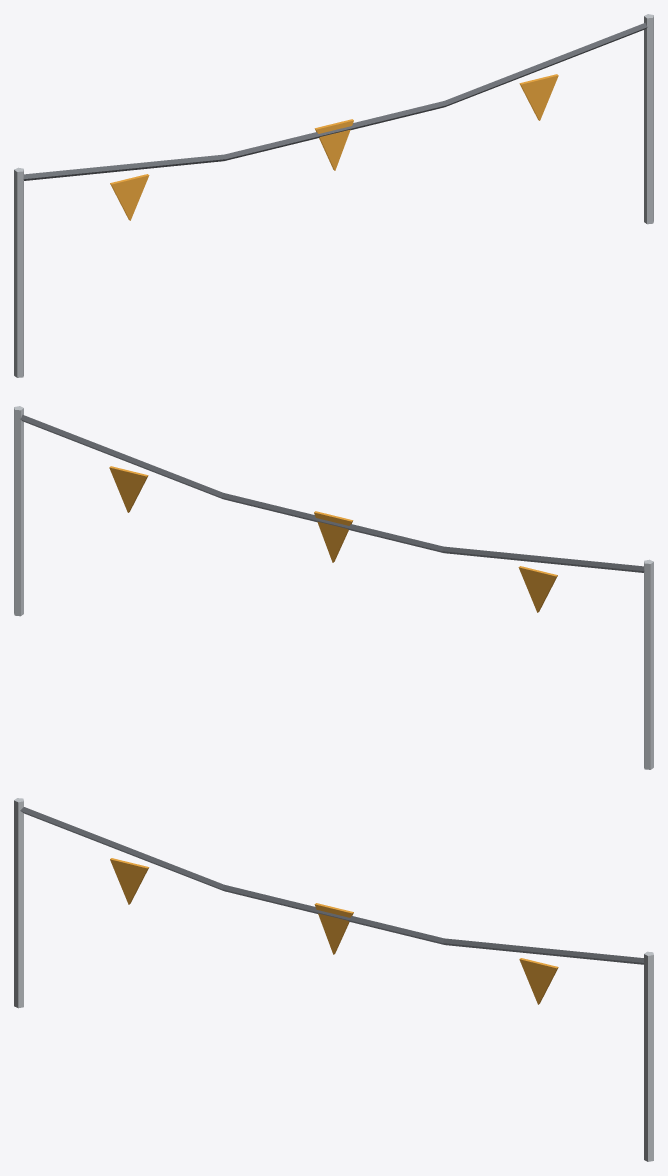
The model's file is ski-resort-and-snow-park-boundary-rope-7bcbee4f__25982.glb.
3 views of the same model, one above another, from view 1: azimuth 30°, elevation 25°; view 2: azimuth 150°, elevation 25°; view 3: azimuth 330°, elevation 25° (orthographic).
Visible parts, largest first — view 1: boundary-rope; view 2: boundary-rope; view 3: boundary-rope.
Part boxes in pixels (x1=…): boundary-rope: x1=14, y1=14, x2=653, y2=377; boundary-rope: x1=14, y1=406, x2=653, y2=769; boundary-rope: x1=14, y1=798, x2=653, y2=1161.
Size of the model in its own units: 4.05 by 1.25 by 0.0569.
